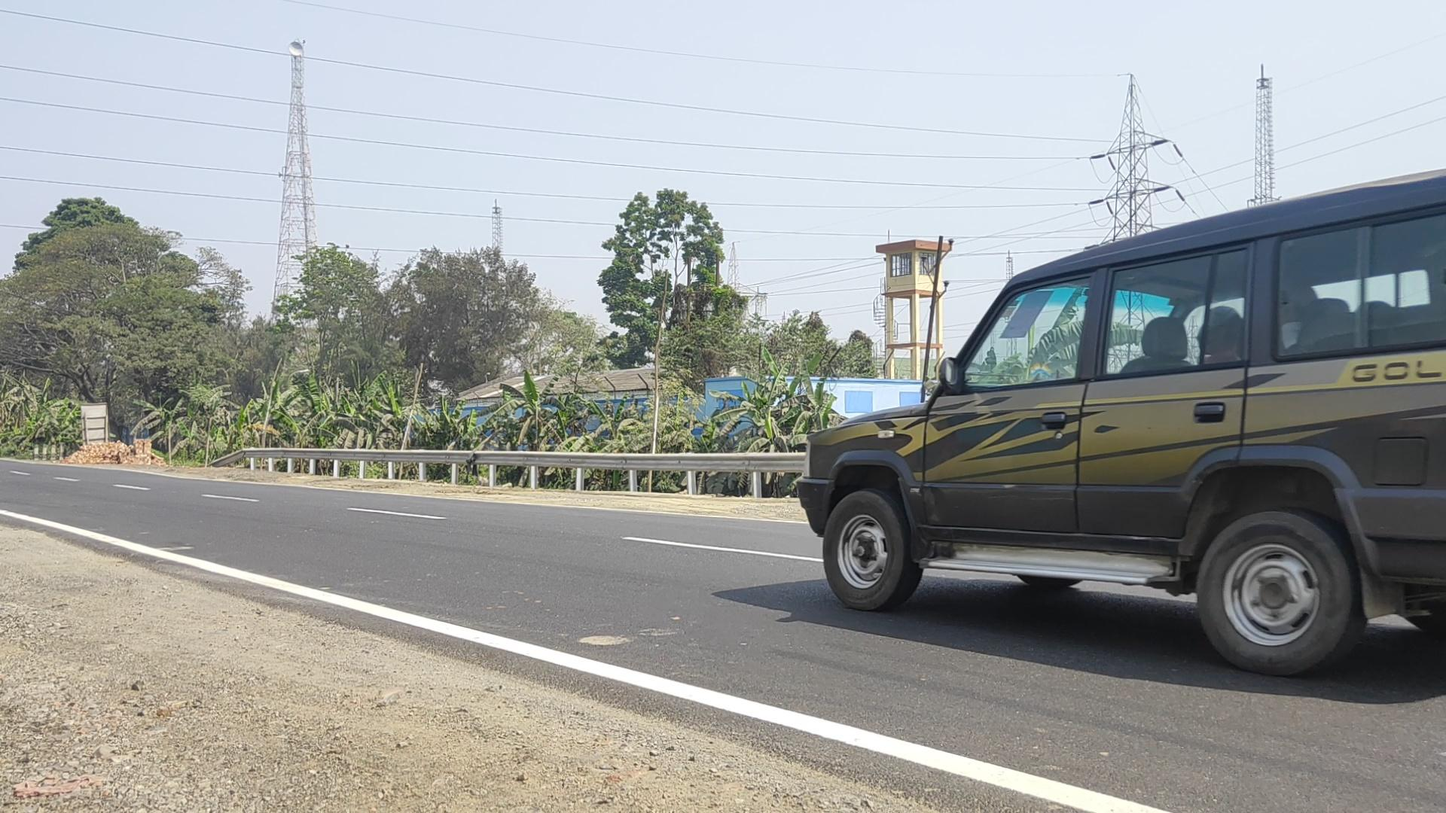car: (801, 164, 1446, 679)
